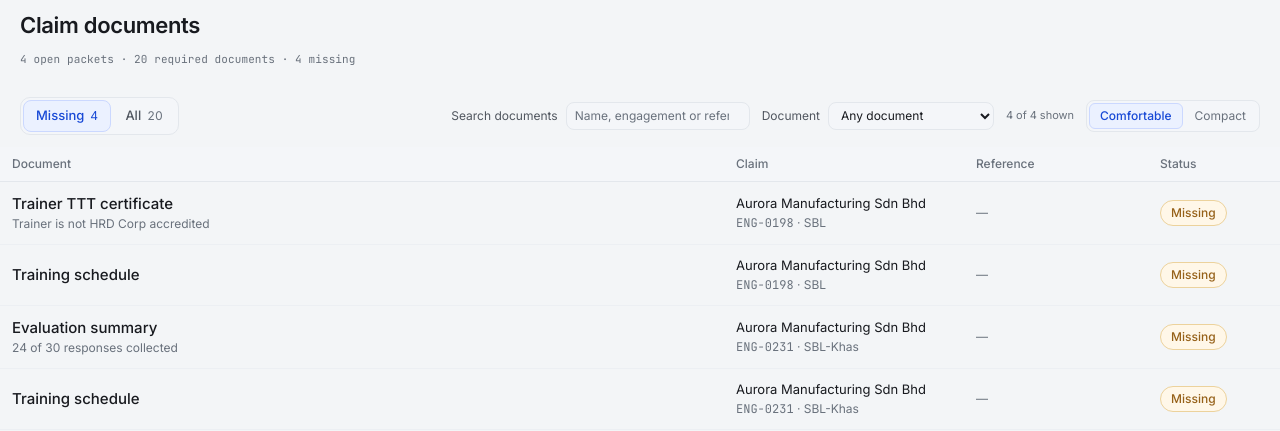
Scenario: M12 · the documents register › narrows by document type and says so when nothing matches
Type "no such document" into the search field labelled "Search documents" at [658, 116], box [566,102,750,130]
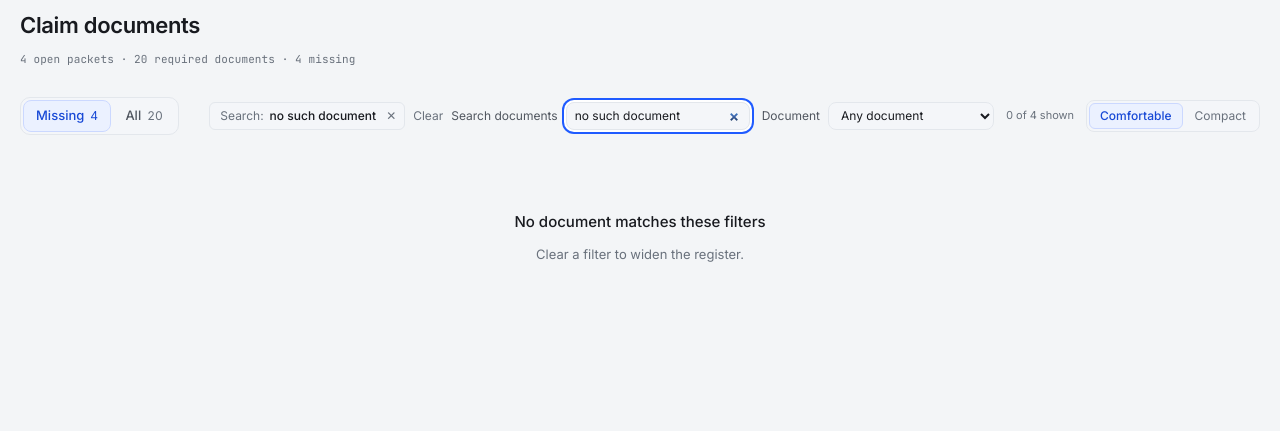
Expected: the text "No document matches these filters" is shown, [514,210,766,233]
